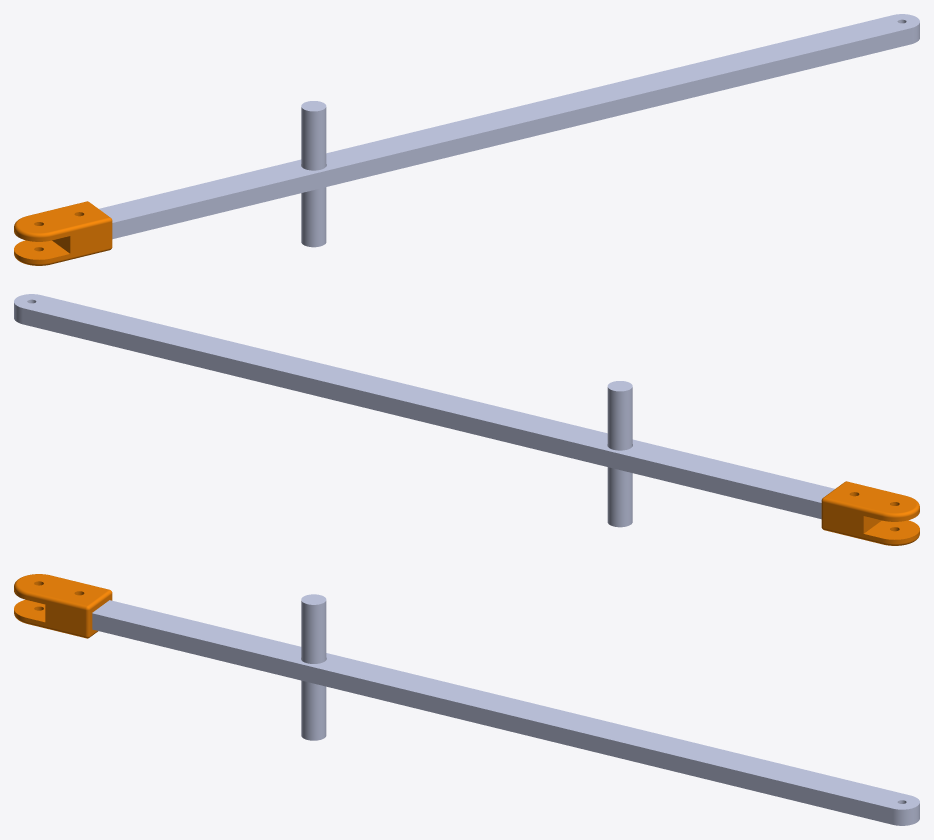
The model's file is UPPER_ARM2.glb.
3 renders of one model, top to bottom at view 1: azimuth 30°, elevation 25°; view 2: azimuth 150°, elevation 25°; view 3: azimuth 330°, elevation 25°, orthographic.
Parts seen in each view (by area): view 1: UPPER_ARM2; view 2: UPPER_ARM2; view 3: UPPER_ARM2.
Part boxes in pixels (<box>): UPPER_ARM2: <box>14,14,919,265</box>; UPPER_ARM2: <box>14,294,919,545</box>; UPPER_ARM2: <box>14,574,919,825</box>.
Bounding box in the file's own units: 0.58 × 0.0836 × 0.028.
